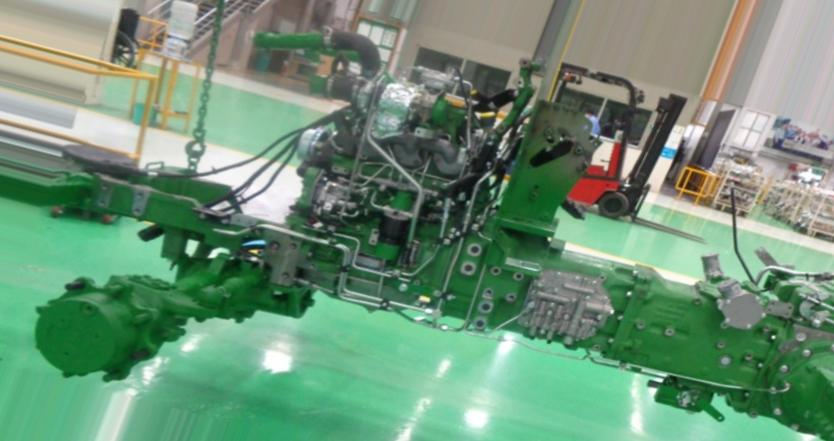engine: (32, 27, 834, 438)
